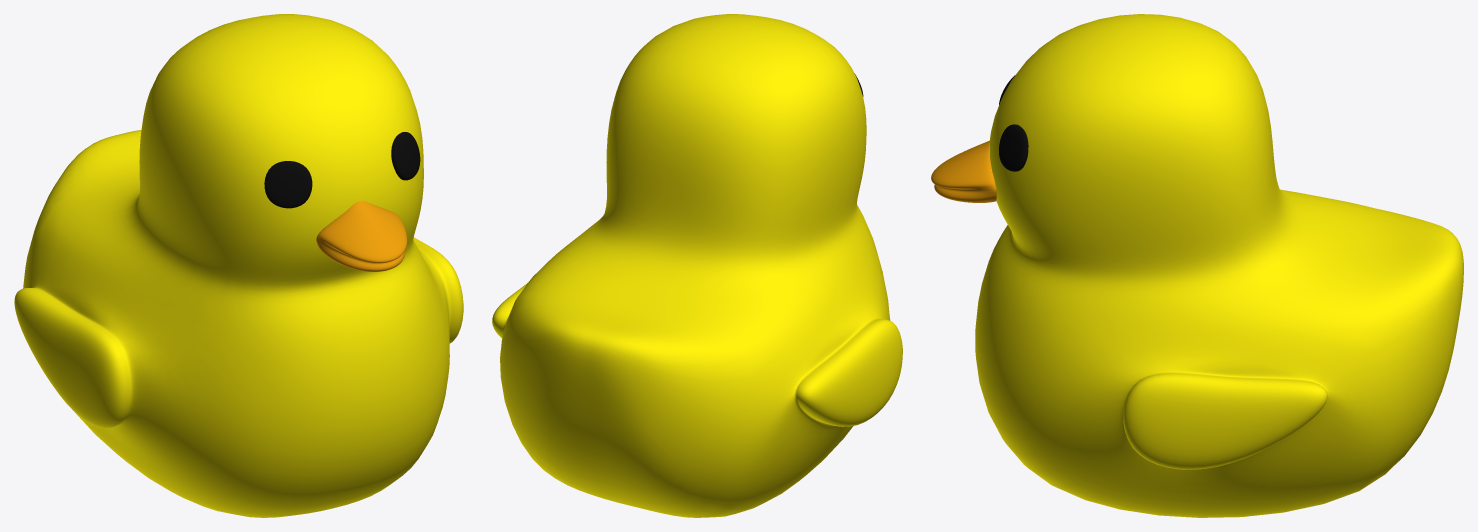
File: DuckModel.fbx
The picture shows the model from 3 angles, left to right: view 1: azimuth 30°, elevation 25°; view 2: azimuth 150°, elevation 25°; view 3: azimuth 270°, elevation 25°; orthographic projection. The views are drawn at different scales.
Visible parts, largest first — view 1: Duck; view 2: Duck; view 3: Duck.
Part boxes in pixels (bbox=[...]): Duck: bbox=[14, 14, 463, 517]; Duck: bbox=[492, 14, 902, 517]; Duck: bbox=[931, 14, 1463, 517].
Bounding box in the file's own units: 908 × 1113 × 1175.
1 material, 1 textured.
